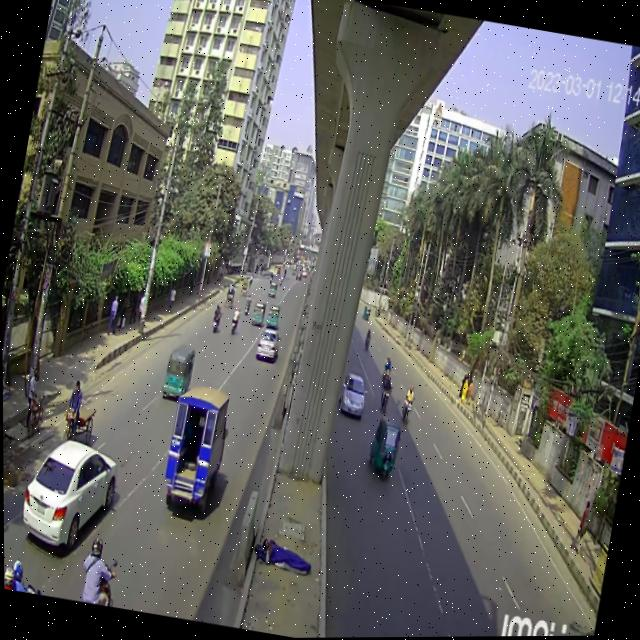cng: (365, 408, 405, 485), (160, 336, 197, 407), (263, 298, 283, 338), (249, 297, 268, 336)
